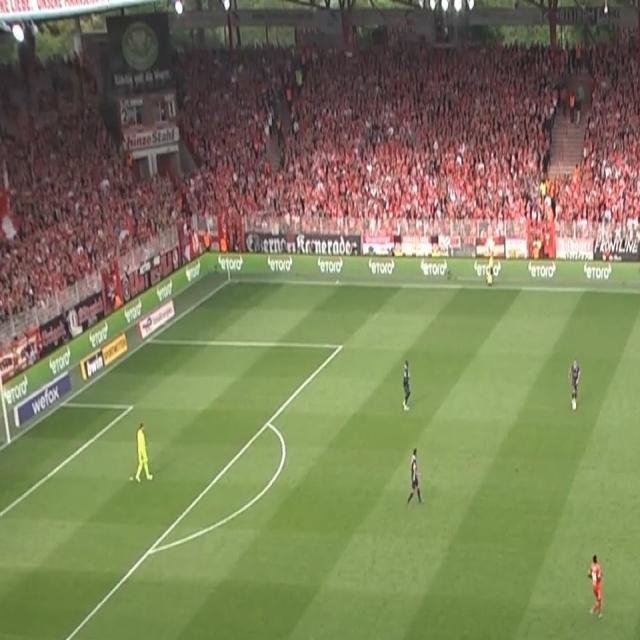ball: (571, 399, 578, 412)
